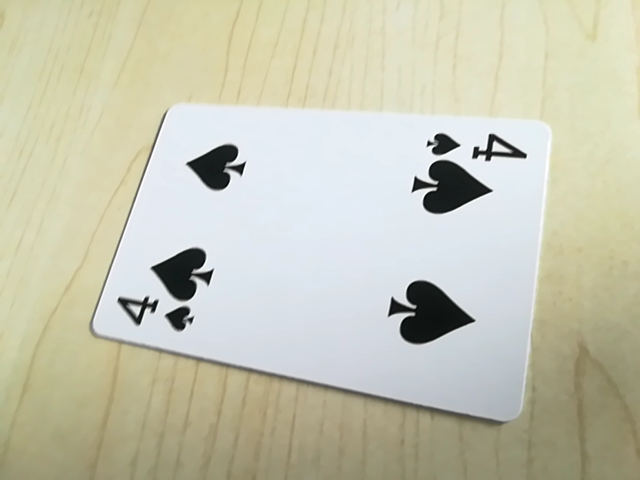ht 4: (108, 290, 203, 338), (419, 126, 529, 164)
